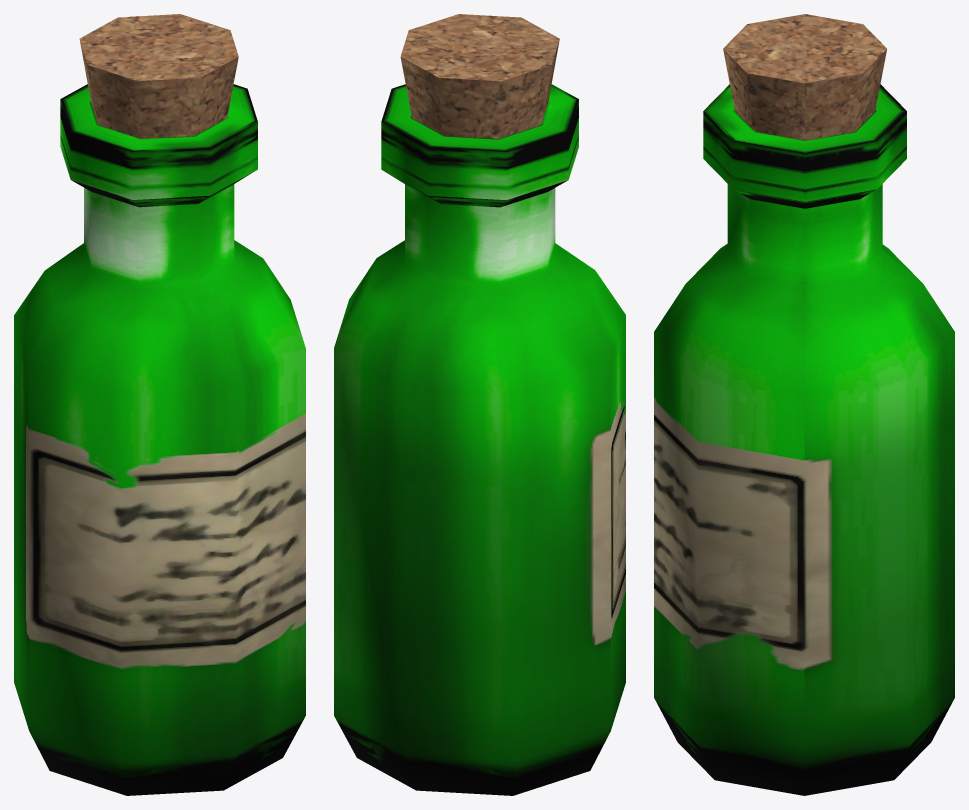
File: bottle_green.fbx
3 renders of one model, left to right at view 1: azimuth 30°, elevation 25°; view 2: azimuth 150°, elevation 25°; view 3: azimuth 270°, elevation 25°, orthographic.
Visible parts, largest first — view 1: bottle_green; view 2: bottle_green; view 3: bottle_green.
Boxes of the visible parts, <box> form: bottle_green: <box>14,14,305,795</box>; bottle_green: <box>334,14,625,795</box>; bottle_green: <box>654,14,954,795</box>.
Bounding box in the file's own units: 7.39 × 18.8 × 7.39.
